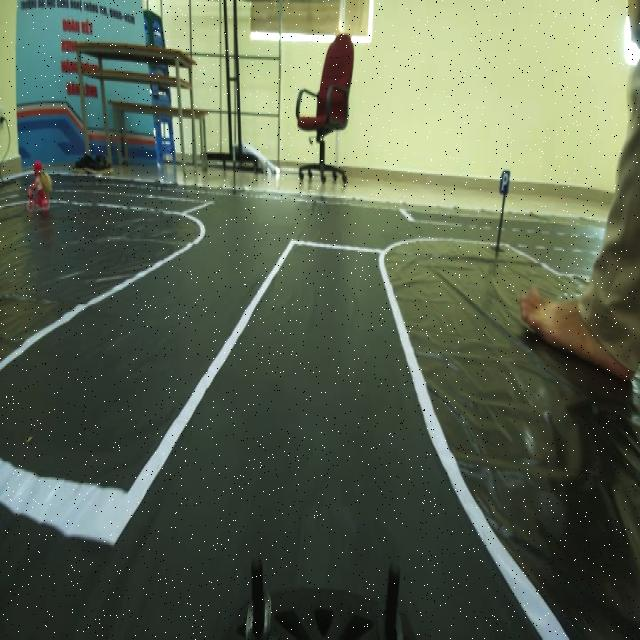parking: (496, 159, 512, 202)
